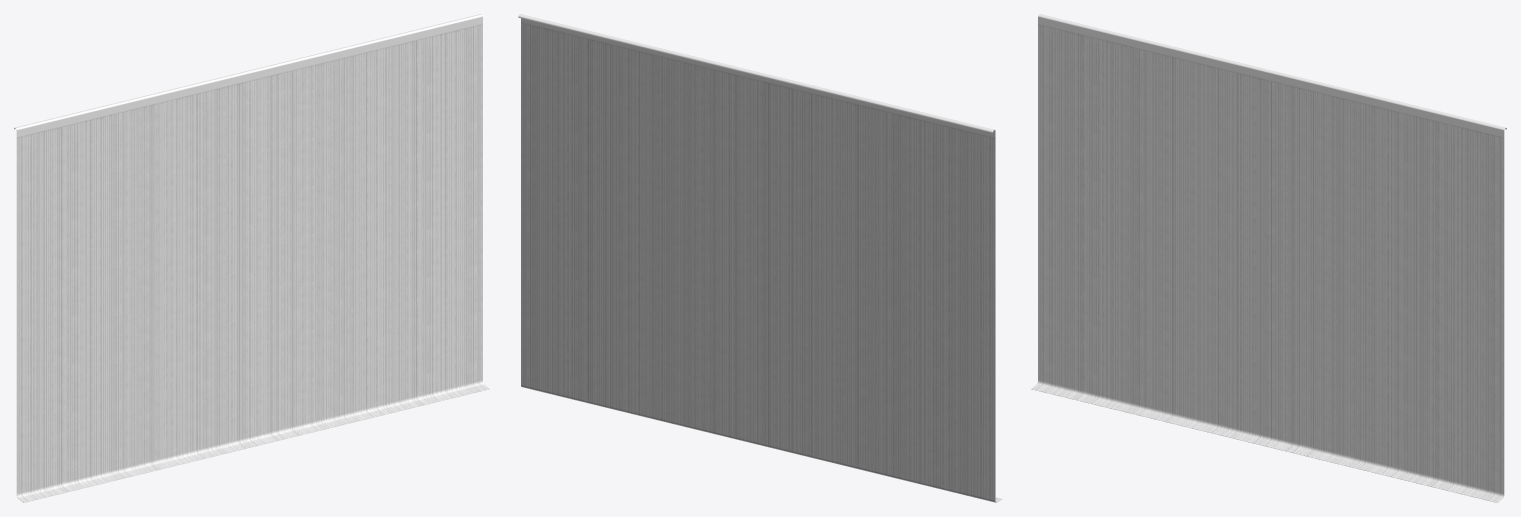
The model's file is PartyBackdrop02_2.FBX.
3 views of the same model, side by side, from view 1: azimuth 30°, elevation 25°; view 2: azimuth 150°, elevation 25°; view 3: azimuth 330°, elevation 25° (orthographic).
Visible parts, largest first — view 1: PartyBackdrop02_2; view 2: PartyBackdrop02_2; view 3: PartyBackdrop02_2.
Part boxes in pixels (bbox=[...]): PartyBackdrop02_2: bbox=[14, 14, 489, 502]; PartyBackdrop02_2: bbox=[518, 14, 1002, 502]; PartyBackdrop02_2: bbox=[1031, 14, 1506, 502].
Size of what is drawn, in the model's own units: 4.5 by 3.4 by 0.1615.
